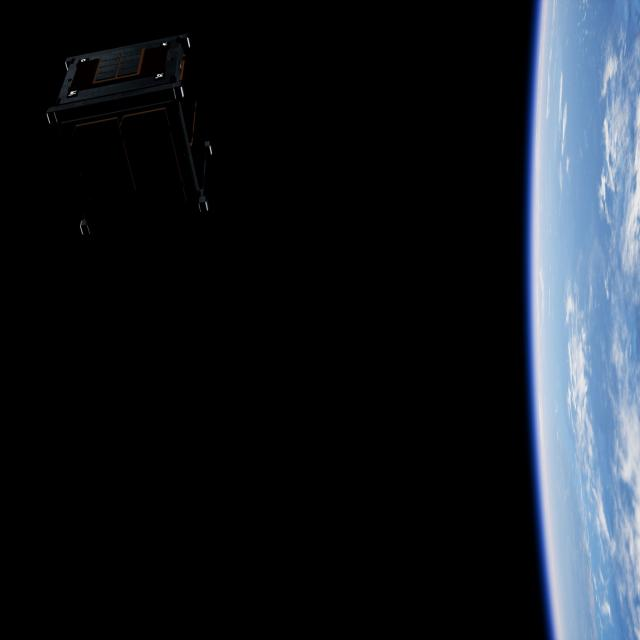medium_debris: (48, 30, 232, 267)
